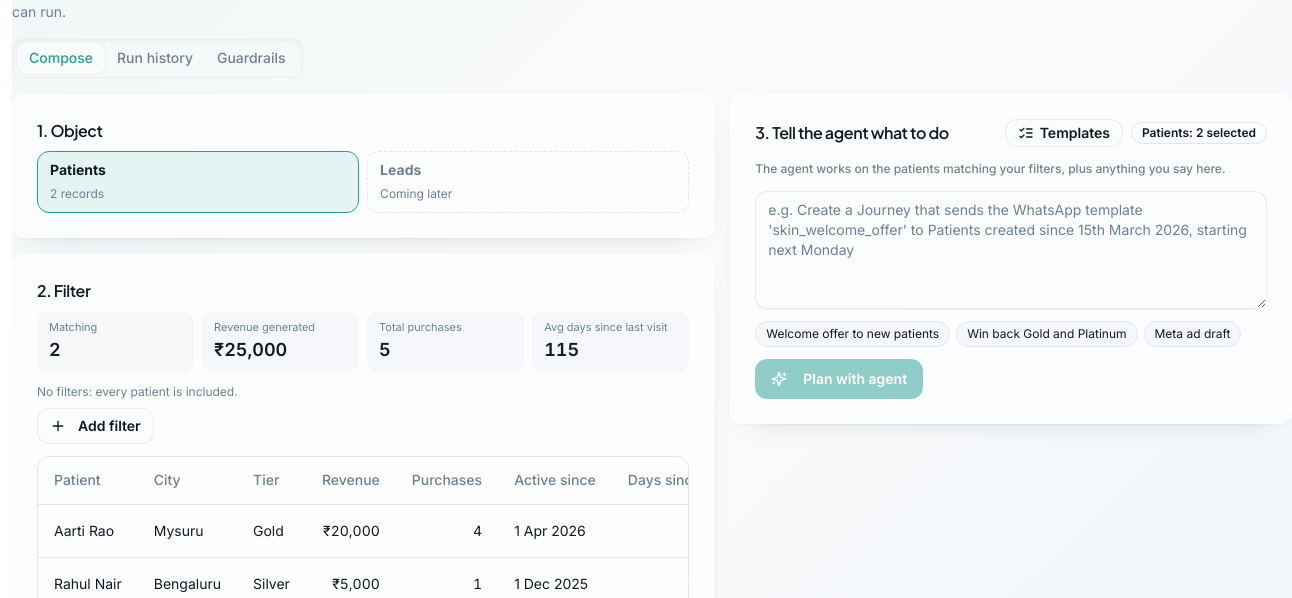
Test: AgenticMarketing › plans a prompt, shows the plan and creates the draft only on approval
Check: the text "Aarti Rao" is shown, box [38, 504, 138, 558]
Replace the text in the text box labelled "works on the patients matching" with "Send skin_welcome_offer to patients since 15 March, next Monday": (1011, 250) [755, 191, 1267, 309]
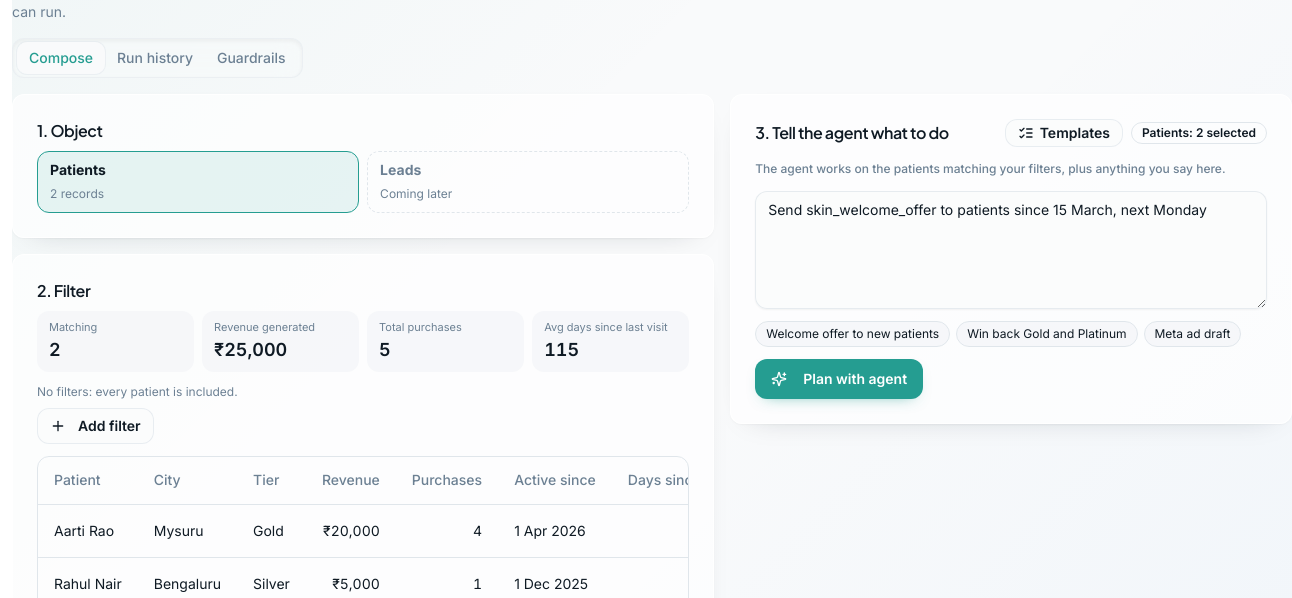
Click the button "Plan with agent": (839, 379) [755, 359, 923, 399]
(page scrolled)
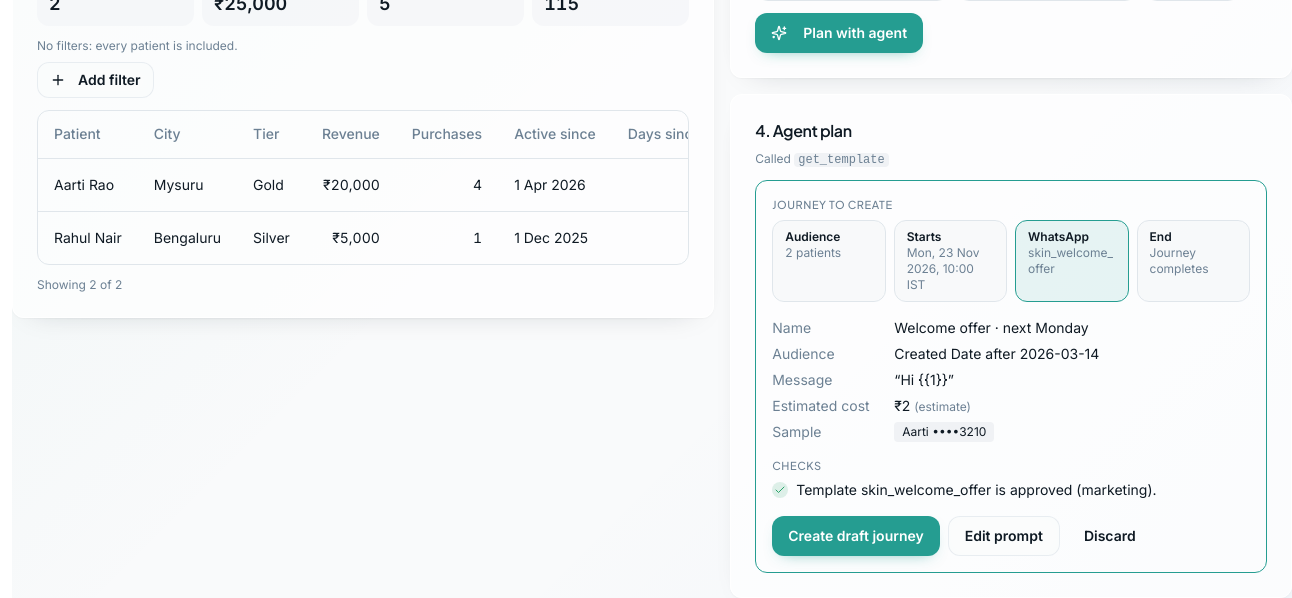
Check: the text "Welcome offer · next Monday" is shown, box [894, 318, 1089, 336]
Click the button "Create draft journey": (856, 536) [772, 516, 940, 556]
(page scrolled)
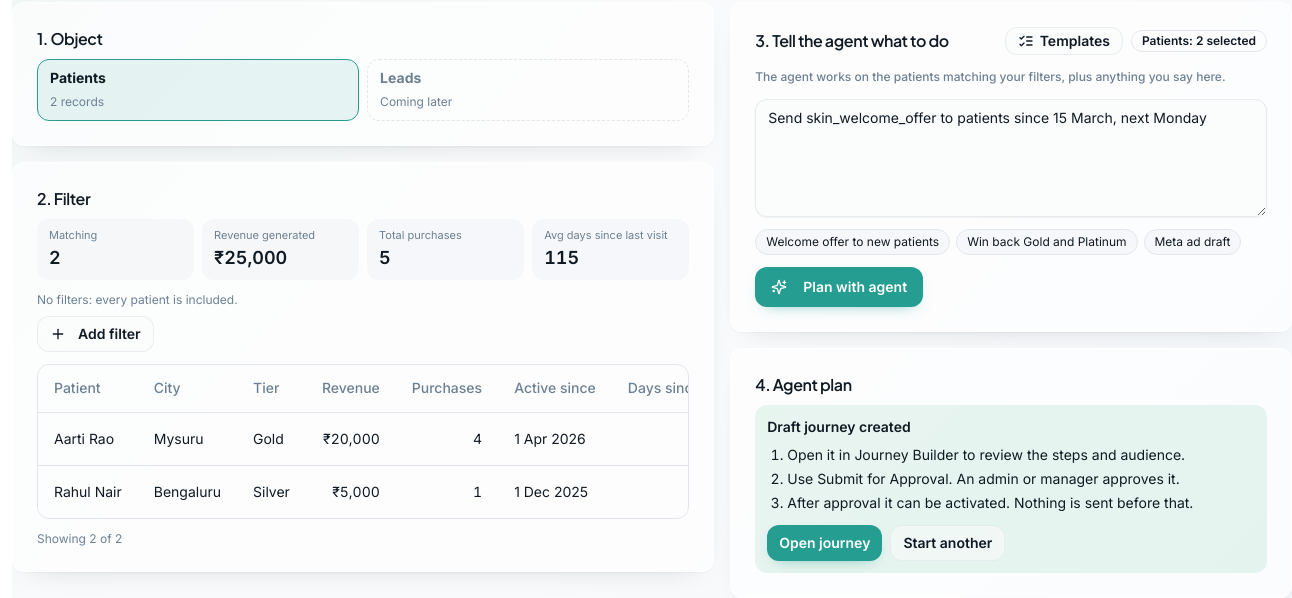
Check: the text "Draft journey created" is shown, box [767, 418, 911, 435]
